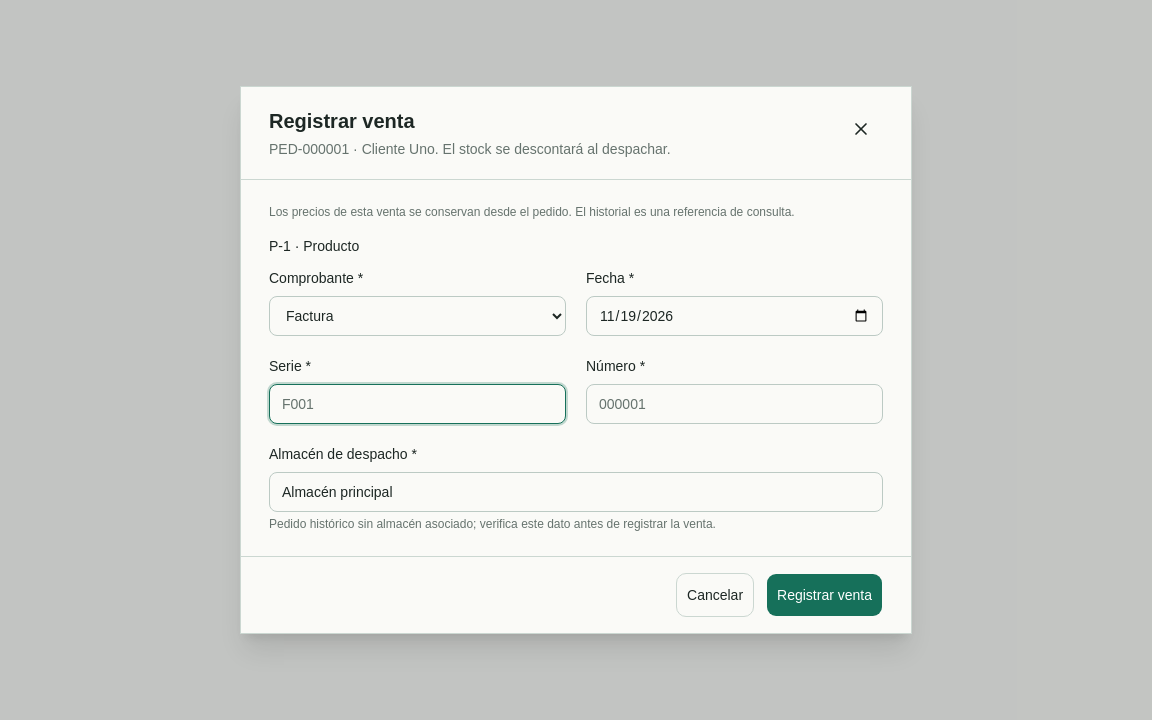
it: DialogoRegistroVenta › impide un doble envío mientras la conversión permanece pendiente
Later steps or results of the test are not shown.
Type "f001" into the field labelled "Serie *" at (418, 404), box x1=269 y1=384 x2=566 y2=424
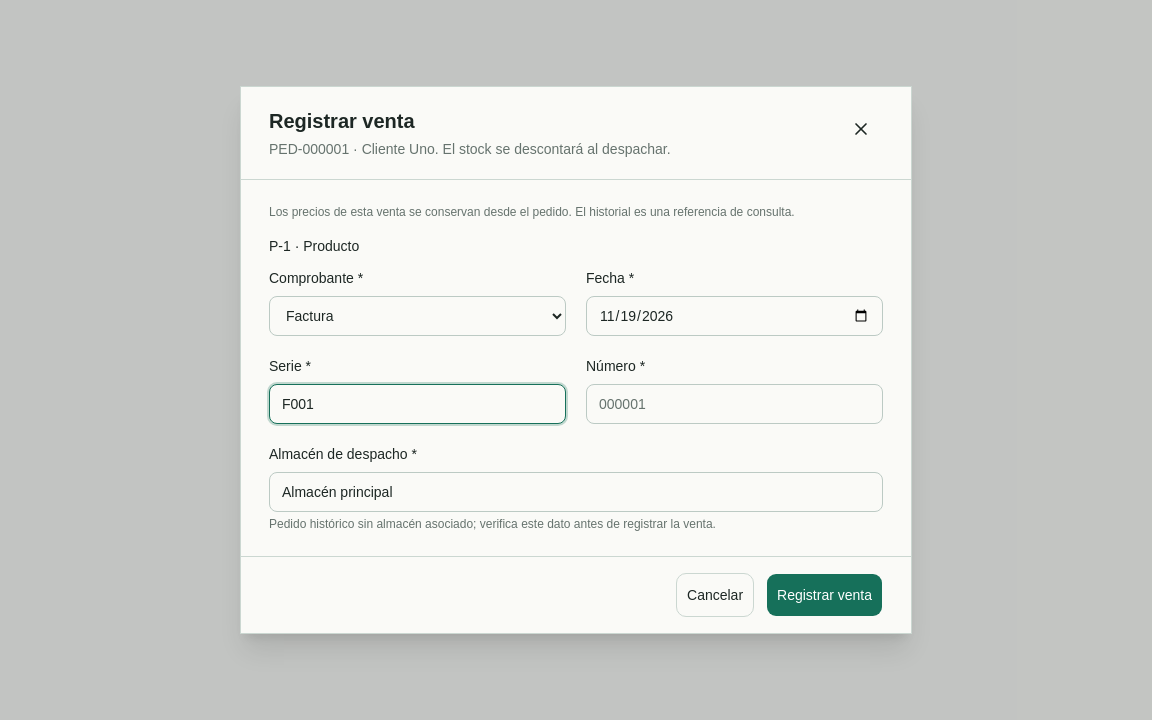
Type "1" into the field labelled "Número *" at (734, 404), box x1=586 y1=384 x2=883 y2=424
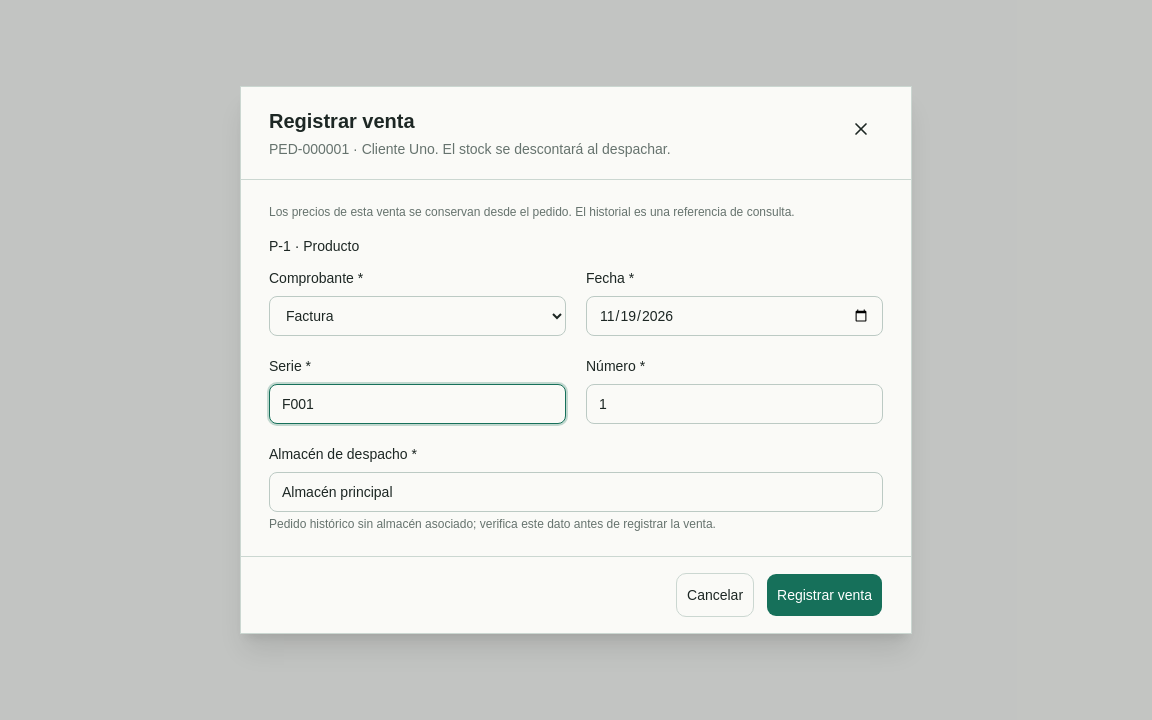
Click the button "Registrar venta" at (825, 595), box x1=766 y1=573 x2=883 y2=617
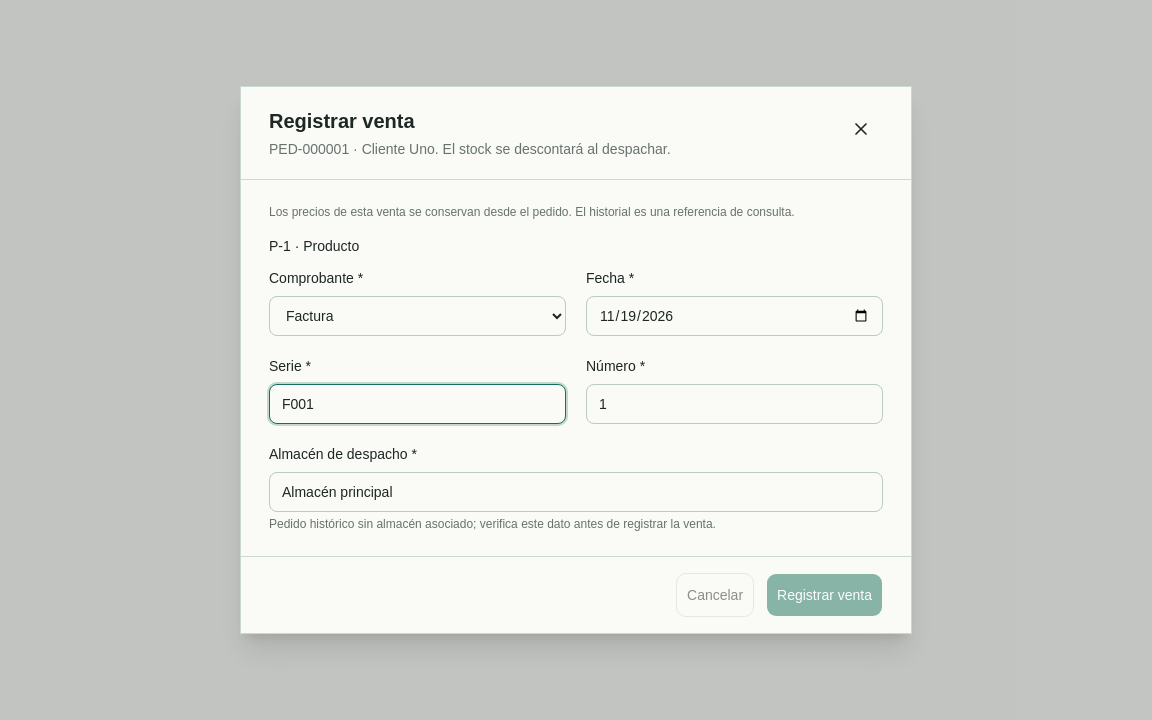
Result: the button "Registrar venta" is disabled at x1=766 y1=573 x2=883 y2=617
